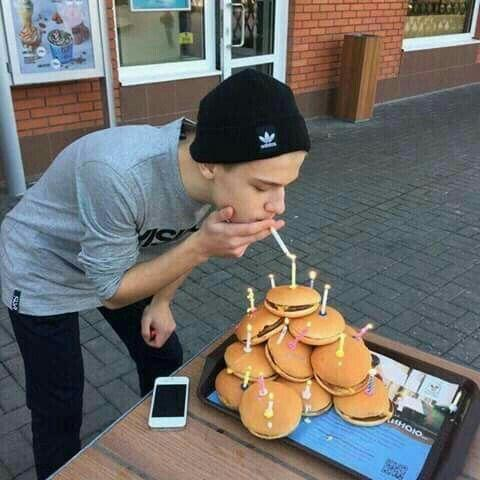cigarette: (270, 226, 290, 257)
